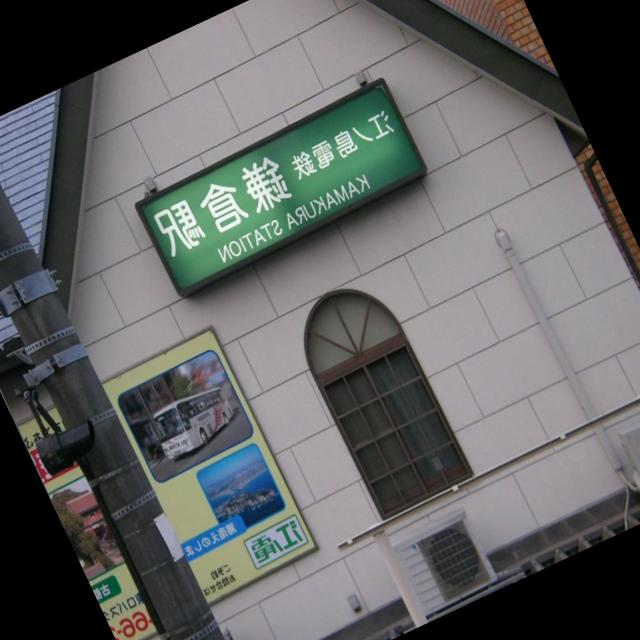bus: (146, 376, 244, 462)
